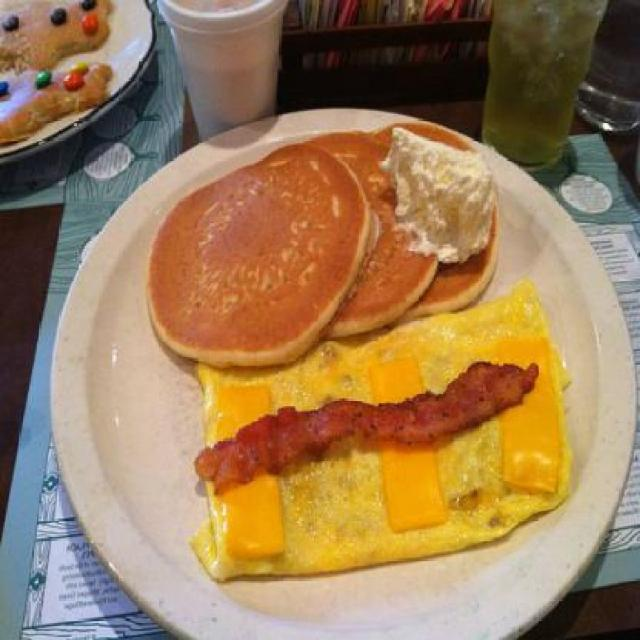omelette: (189, 276, 577, 592)
pancakes: (143, 123, 497, 359)
